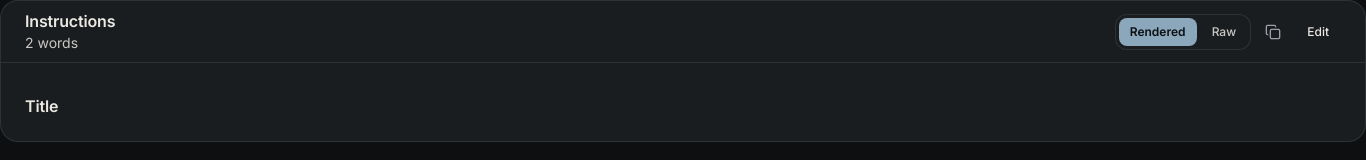
Test: AgentInstructionsCard › shows the prompt as written in the Raw view
Step 1. Click the button "Raw" → (1224,32), box x1=1200 y1=18 x2=1247 y2=46
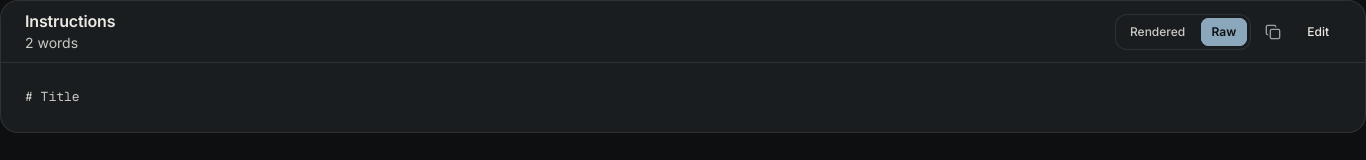
Expected: the text "# Title" is shown, x1=25 y1=87 x2=80 y2=108
